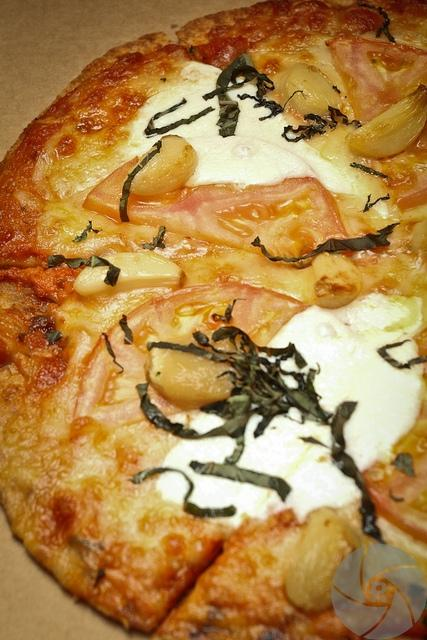garlic: (284, 508, 364, 612), (344, 84, 426, 158), (148, 348, 244, 410), (72, 251, 187, 297), (124, 134, 198, 197), (283, 63, 341, 117), (313, 252, 363, 309)
tomato: (75, 280, 312, 427), (126, 177, 348, 258), (360, 328, 426, 544), (325, 34, 427, 126)
